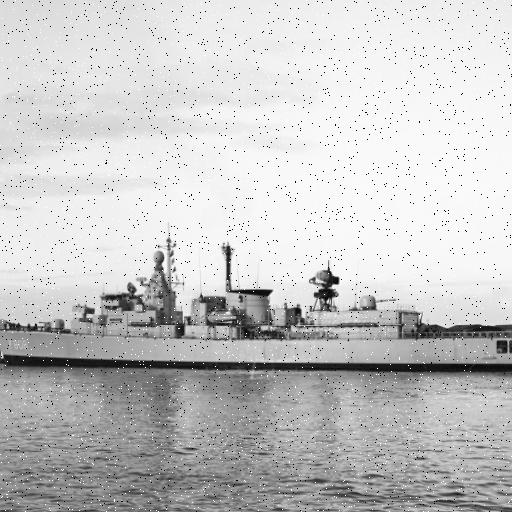Fragata: (1, 212, 512, 374)
